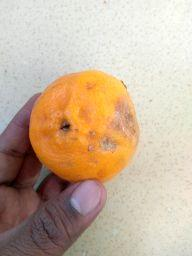Unripe: (28, 70, 138, 178)
